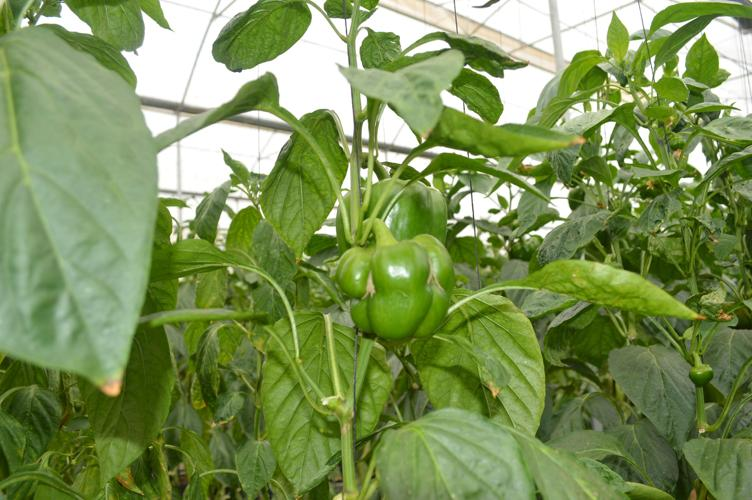BellPepper: (330, 250, 468, 342), (323, 170, 455, 254)
